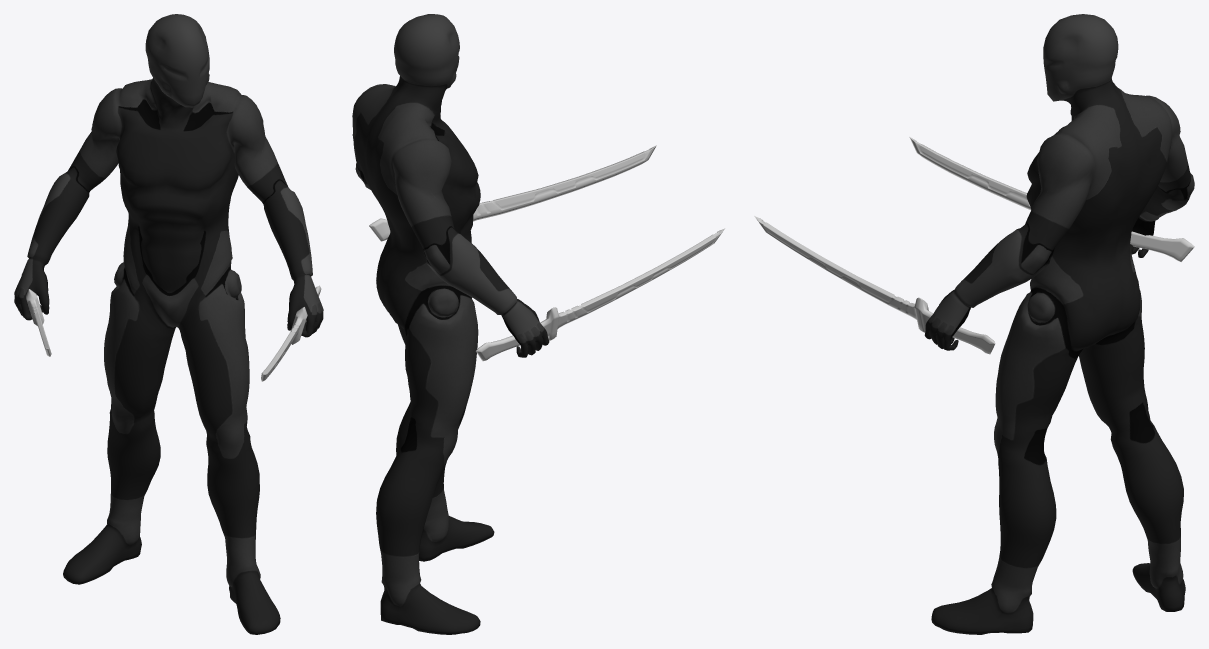
The picture shows the model from 3 angles, left to right: view 1: azimuth 30°, elevation 25°; view 2: azimuth 150°, elevation 25°; view 3: azimuth 270°, elevation 25°; orthographic projection. The views are drawn at different scales.
Parts seen in each view (by area): view 1: Cyborg_Ninja_Killer, Sword_l, Sword_l001; view 2: Cyborg_Ninja_Killer, Sword_l001, Sword_l; view 3: Cyborg_Ninja_Killer, Sword_l, Sword_l001.
Part boxes in pixels (x1=…): Cyborg_Ninja_Killer: x1=14, y1=14, x2=323, y2=634; Sword_l: x1=261, y1=285, x2=321, y2=381; Sword_l001: x1=21, y1=273, x2=51, y2=356; Cyborg_Ninja_Killer: x1=352, y1=14, x2=549, y2=634; Sword_l001: x1=476, y1=228, x2=725, y2=361; Sword_l: x1=369, y1=145, x2=656, y2=241; Cyborg_Ninja_Killer: x1=924, y1=14, x2=1194, y2=634; Sword_l: x1=754, y1=216, x2=995, y2=354; Sword_l001: x1=909, y1=137, x2=1194, y2=261.
Bounding box in the file's own units: 106 × 182 × 122.
